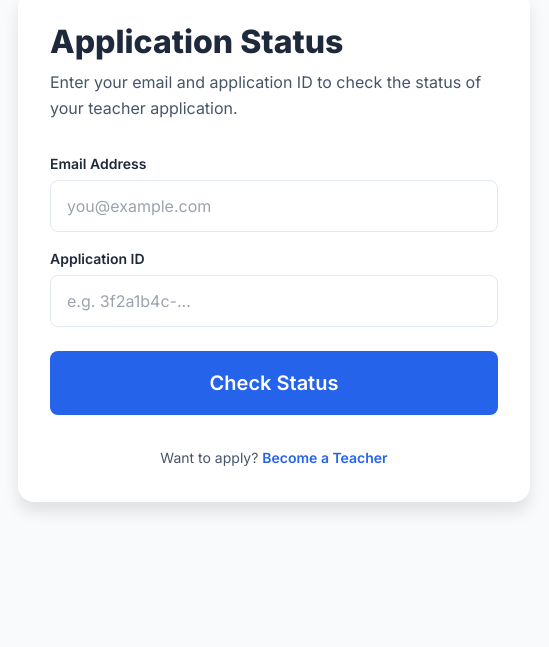
Test case: ApplicationStatus › shows approved status message
The width and height of the screenshot is (549, 647).
Type "jane@example.com" into the field labelled "Email Address" at (274, 206), box left=50, top=180, right=498, bottom=232
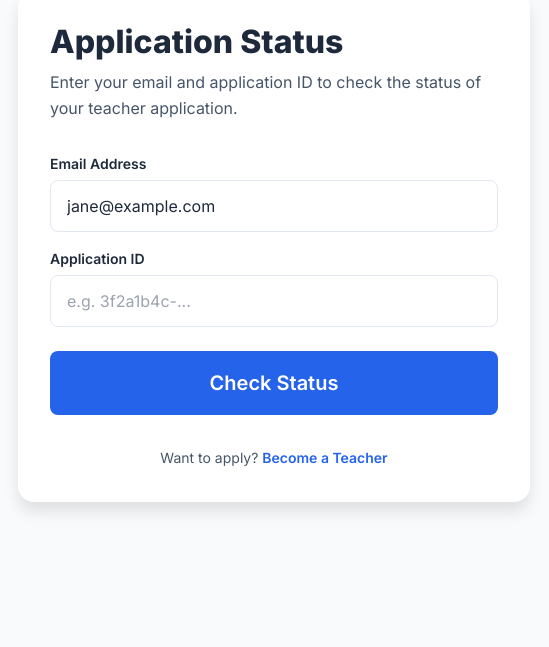
Type "abc-123" into the field labelled "Application ID" at (274, 301), box left=50, top=275, right=498, bottom=327
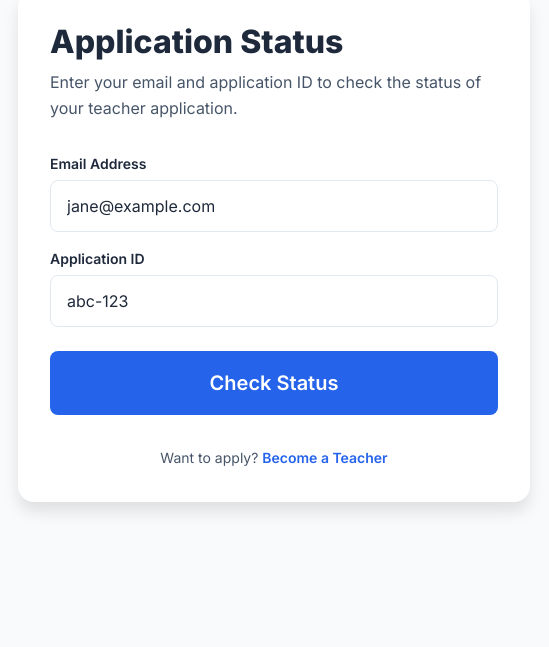
Click the button "Check Status" at (274, 383), box left=50, top=351, right=498, bottom=415
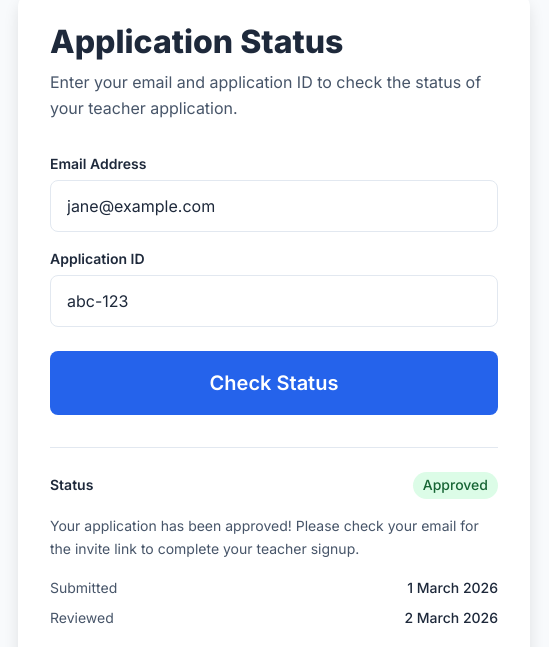
Check: the text "Approved" is shown, box left=413, top=472, right=498, bottom=499
Check: the text "invite link" is shown, box left=50, top=517, right=479, bottom=557
